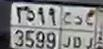3: (14, 5, 24, 47)
5: (25, 7, 35, 49)
9: (46, 6, 57, 49), (36, 6, 45, 49)
D: (73, 15, 82, 49)
J: (85, 10, 94, 49), (62, 10, 71, 48)
